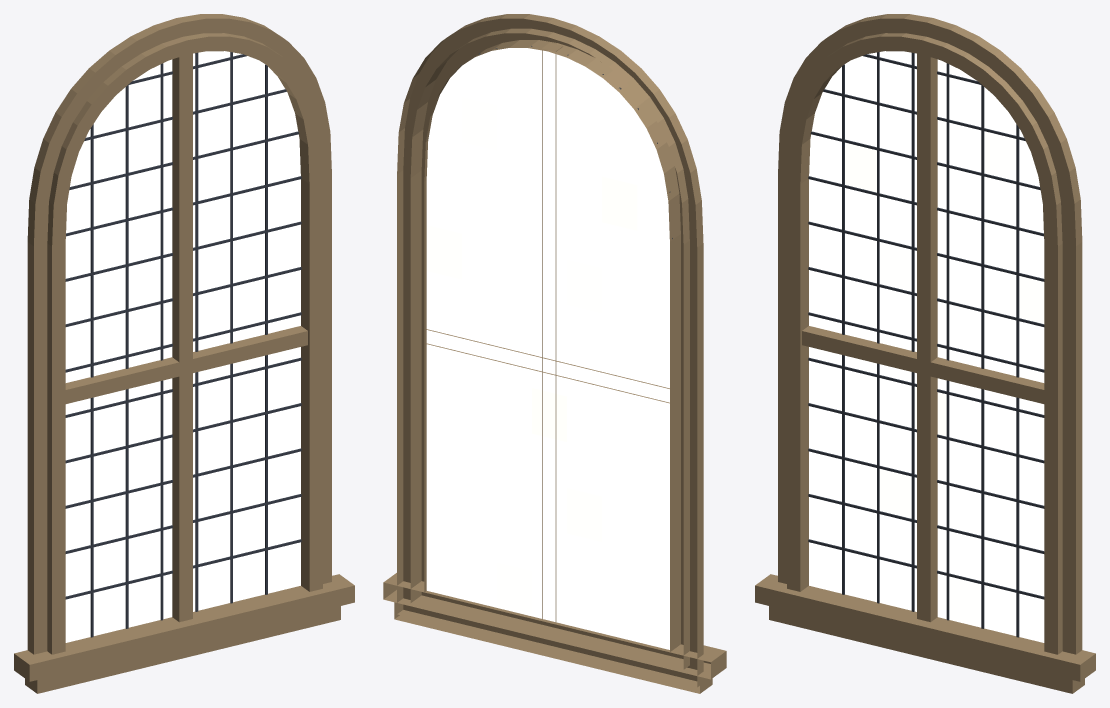
File: window_1_8x4.glb
3 views of the same model, side by side, from view 1: azimuth 30°, elevation 25°; view 2: azimuth 150°, elevation 25°; view 3: azimuth 330°, elevation 25° (orthographic).
Parts seen in each view (by area): view 1: window_1_8x4; view 2: window_1_8x4; view 3: window_1_8x4.
Part boxes in pixels (box(x1,y1,x2,y2)): window_1_8x4: box(14, 14, 354, 693); window_1_8x4: box(383, 14, 726, 693); window_1_8x4: box(755, 14, 1095, 693).
Bounding box in the file's own units: 2.4 × 4.44 × 0.2.
